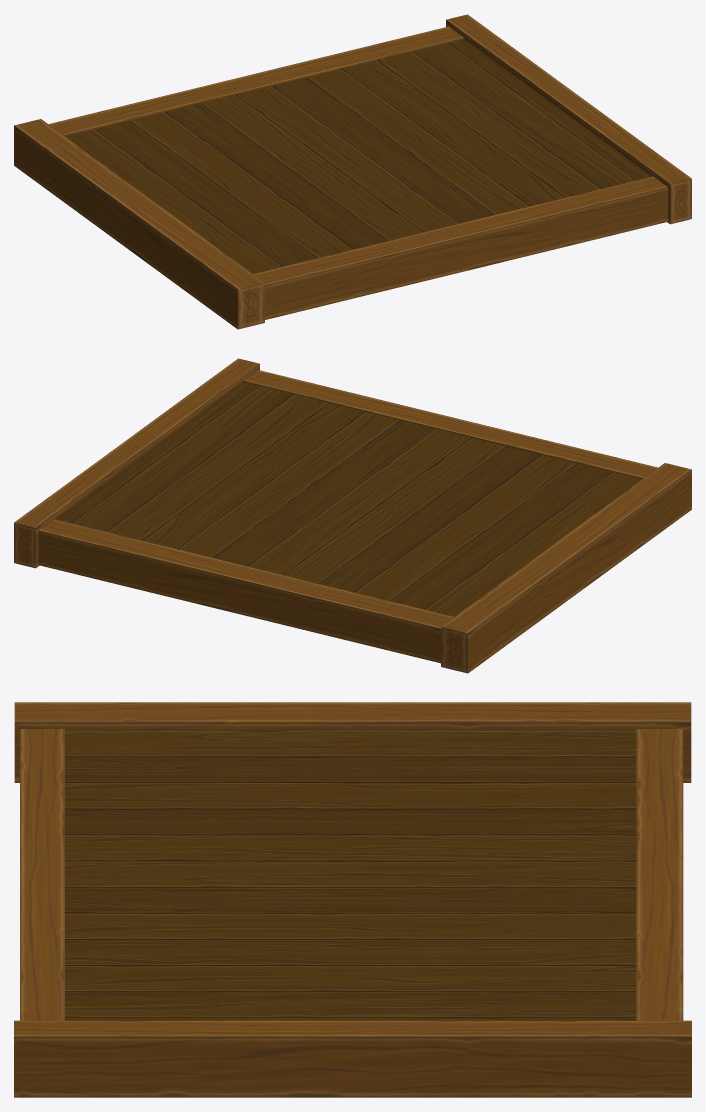
The model's file is SM_Stairs_Interior_C_Platform.fbx.
3 views of the same model, one above another, from view 1: azimuth 30°, elevation 25°; view 2: azimuth 150°, elevation 25°; view 3: azimuth 270°, elevation 25° (orthographic). The views are drawn at different scales.
Parts seen in each view (by area): view 1: SM_Stairs_Interior_C_Platform; view 2: SM_Stairs_Interior_C_Platform; view 3: SM_Stairs_Interior_C_Platform.
Boxes of the visible parts, bbox=[...] form: SM_Stairs_Interior_C_Platform: bbox=[14, 14, 691, 329]; SM_Stairs_Interior_C_Platform: bbox=[14, 358, 691, 673]; SM_Stairs_Interior_C_Platform: bbox=[14, 702, 691, 1097].
Size of the model in its own units: 3.57 by 0.3041 by 3.06.
